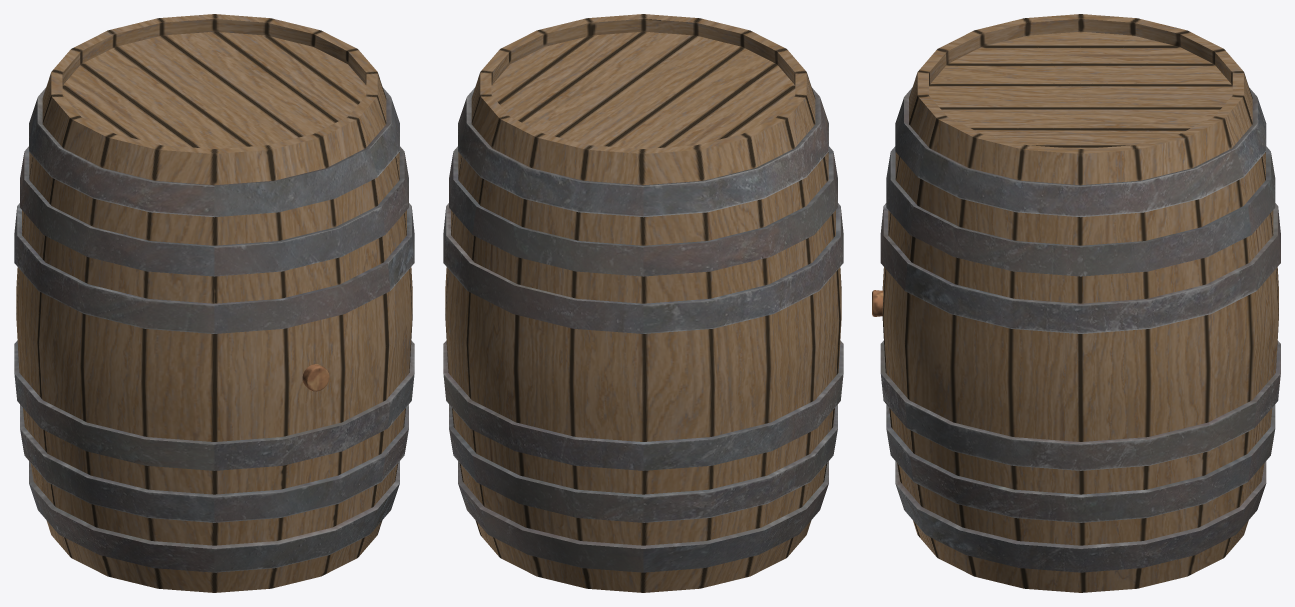
The model's file is barrel2.glb.
3 renders of one model, left to right at view 1: azimuth 30°, elevation 25°; view 2: azimuth 150°, elevation 25°; view 3: azimuth 270°, elevation 25°, orthographic.
Visible parts, largest first — view 1: Object_2; view 2: Object_2; view 3: Object_2.
Part boxes in pixels (left/top/right/bottom): Object_2: left=14, top=14, right=414, bottom=592; Object_2: left=443, top=14, right=843, bottom=592; Object_2: left=872, top=14, right=1280, bottom=592.
Size of the model in its own units: 68.58 by 81.76 by 69.
Materials: 1 (1 with a texture image).
